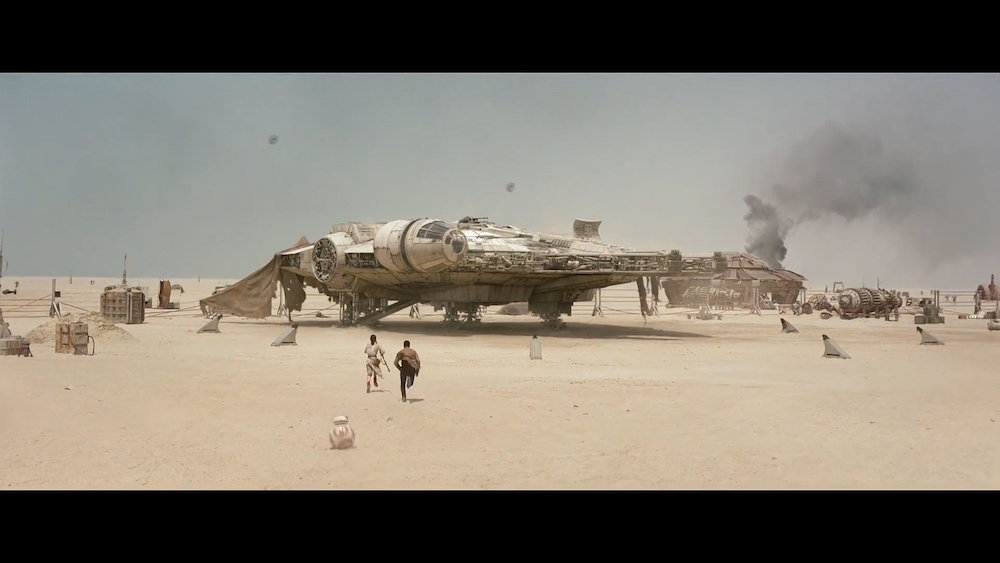Millennium Falcon: (273, 218, 729, 307)
Tie Fighter: (506, 183, 515, 193), (269, 136, 279, 145)
